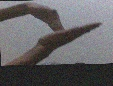hand: (34, 22, 103, 53), (22, 1, 67, 31)
